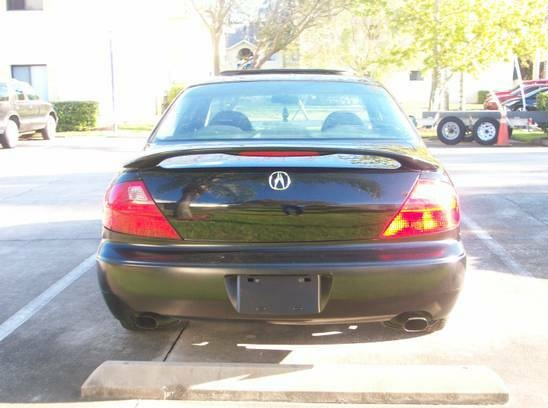acura: (93, 70, 468, 354)
